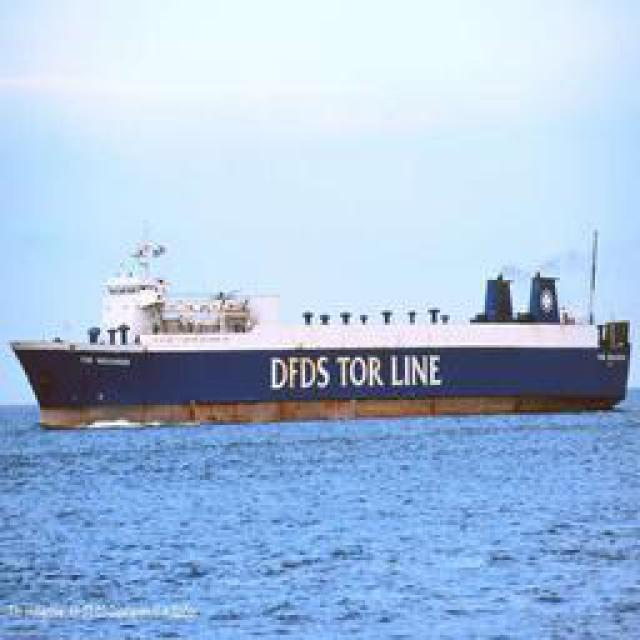Ship: (22, 228, 622, 426)
